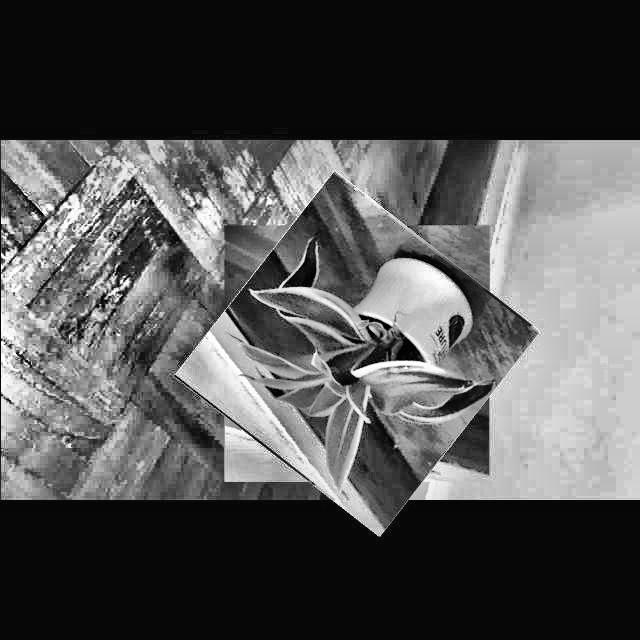plants: (200, 197, 514, 510)
